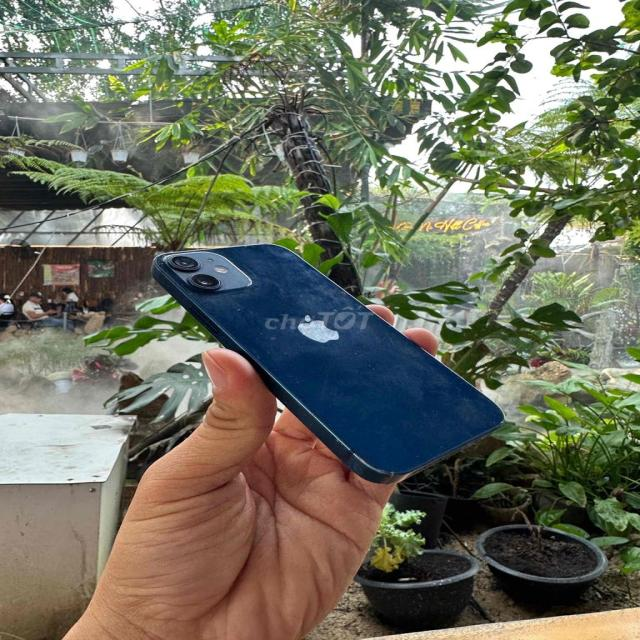gen_12_13: (146, 237, 514, 496)
scratch: (233, 246, 488, 437)
